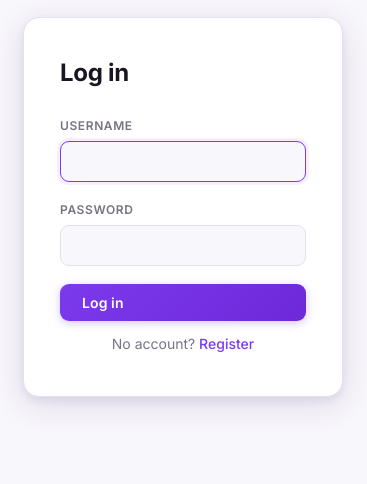
Test: LoginPage › shows error on failed login
Type "wrong" into the field labelled "Username".
click(183, 162); type("wrong")  # box [60,141,306,182]
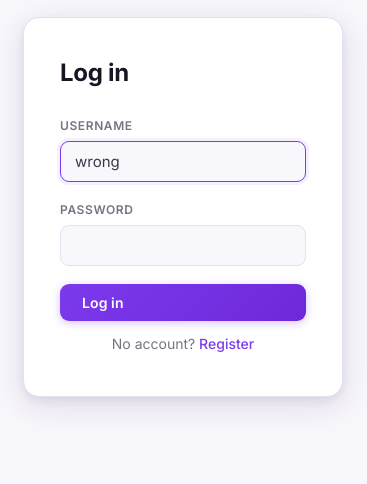
Type "wrong" into the password field labelled "Password".
click(183, 246); type("wrong")  # box [60,225,306,266]
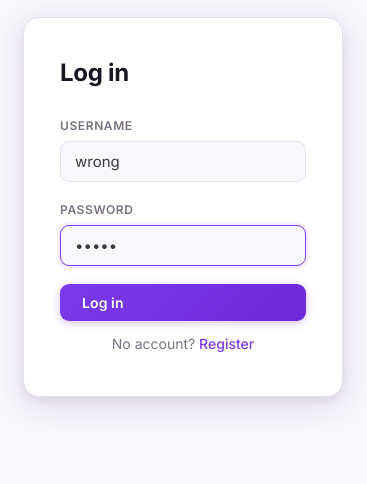
Click the button "Log in".
click(183, 303)  # box [60,284,306,321]
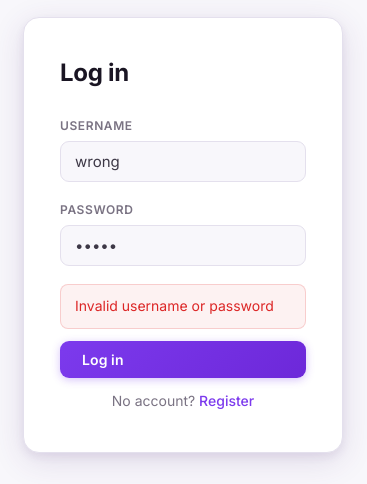
Now the text "Invalid username or password" is shown, box [60,284,306,329]
